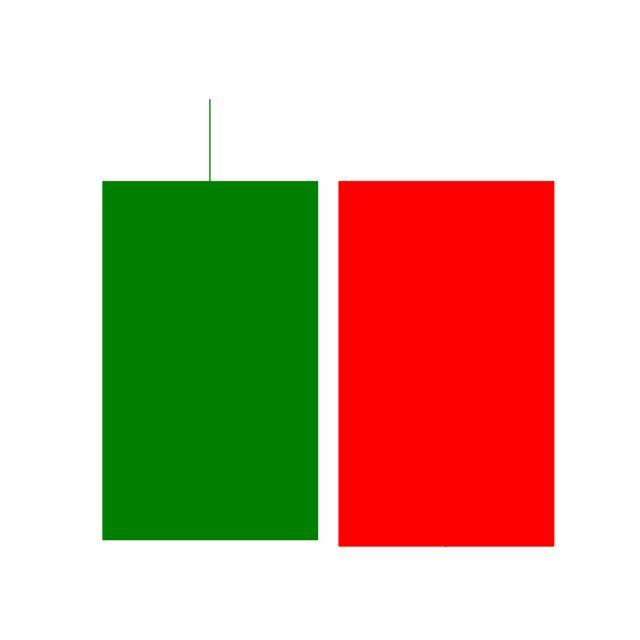Marubozu: (328, 178, 566, 553)
